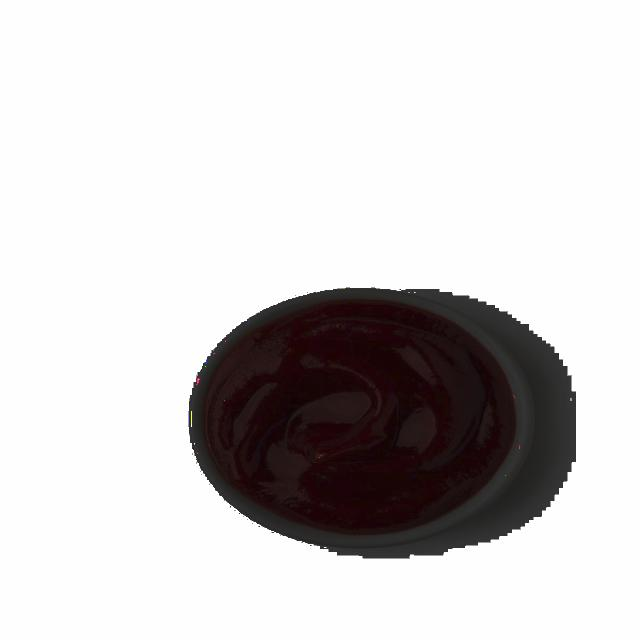ketchup: (211, 300, 518, 537)
